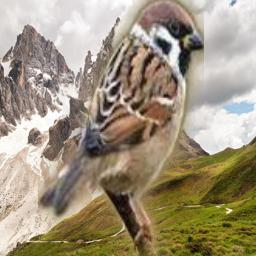Sparrow: (38, 0, 204, 256)
